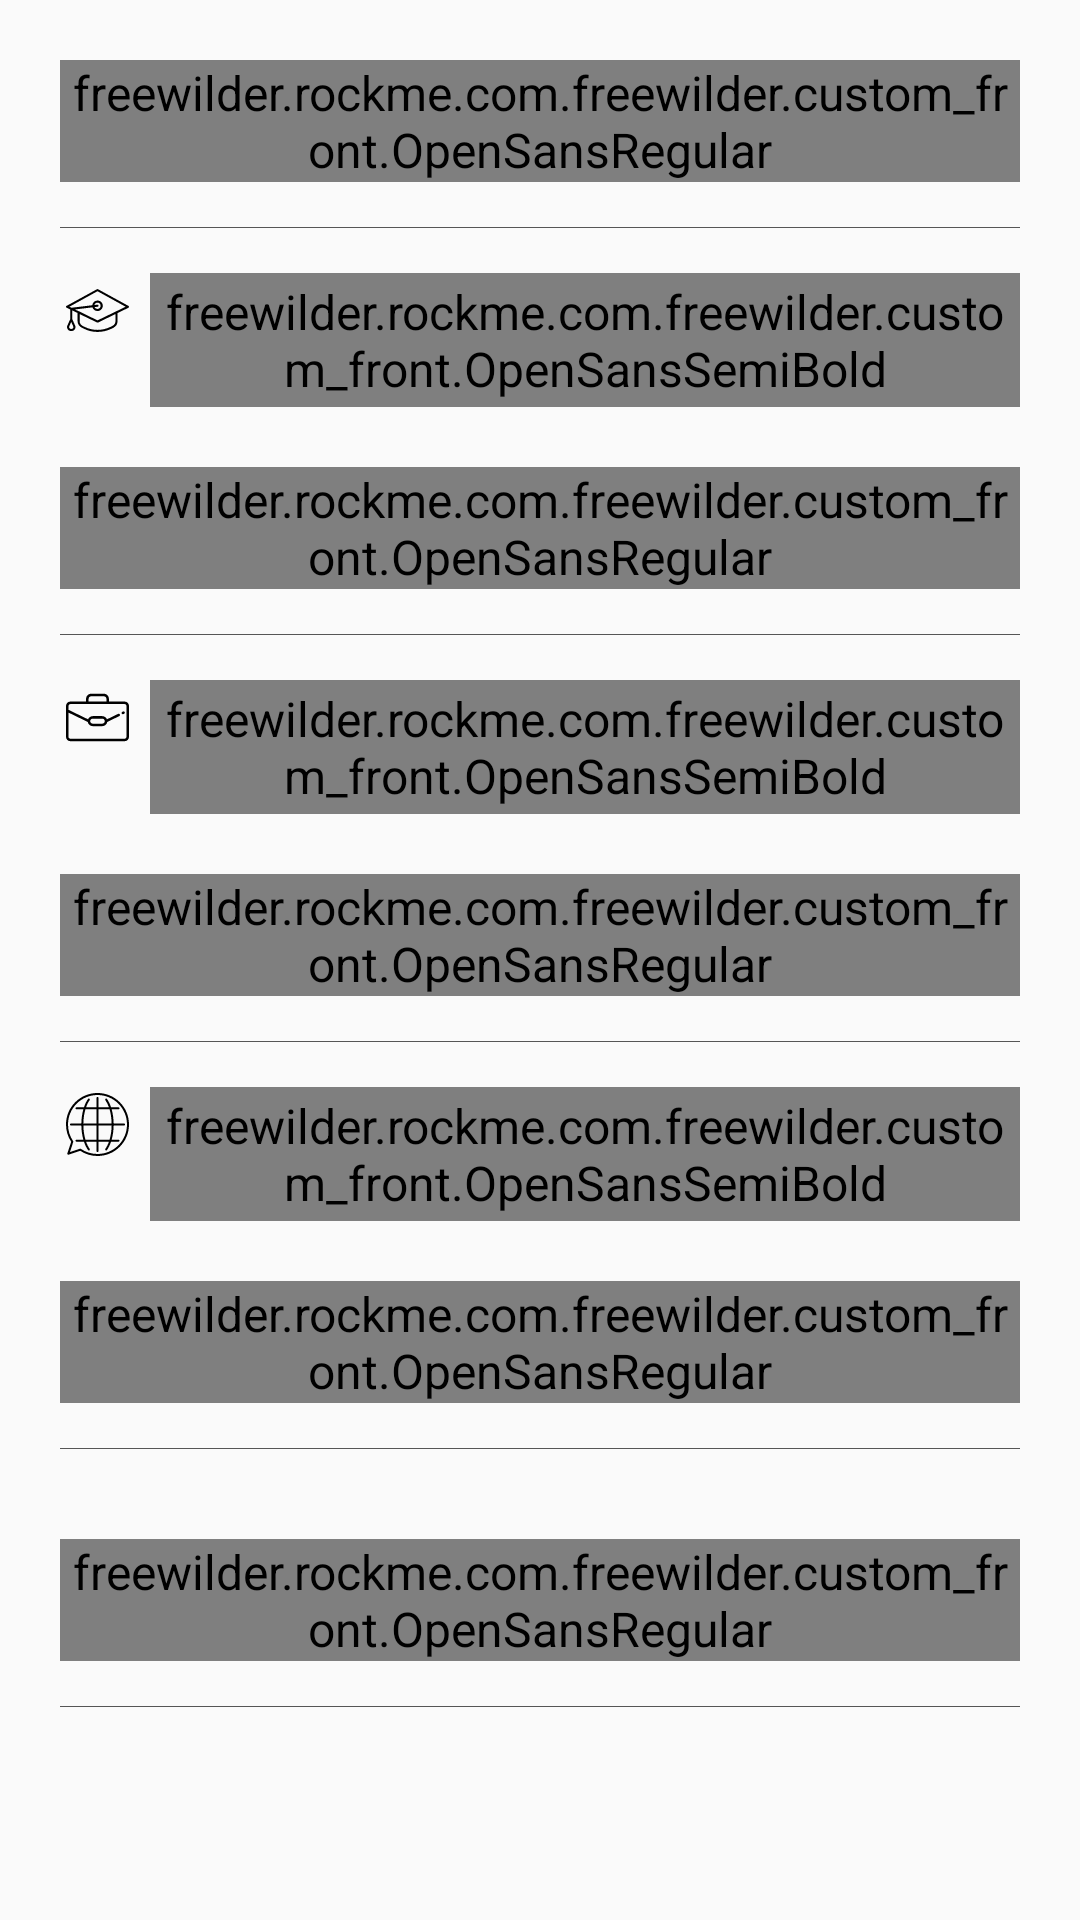

Icons on this 1080 × 1920 Android screen, each with its box as BBox(x1, y1, x2, y2):
business center: BBox(66, 693, 129, 742)
school: BBox(66, 289, 129, 332)
translation: BBox(66, 1093, 129, 1156)
